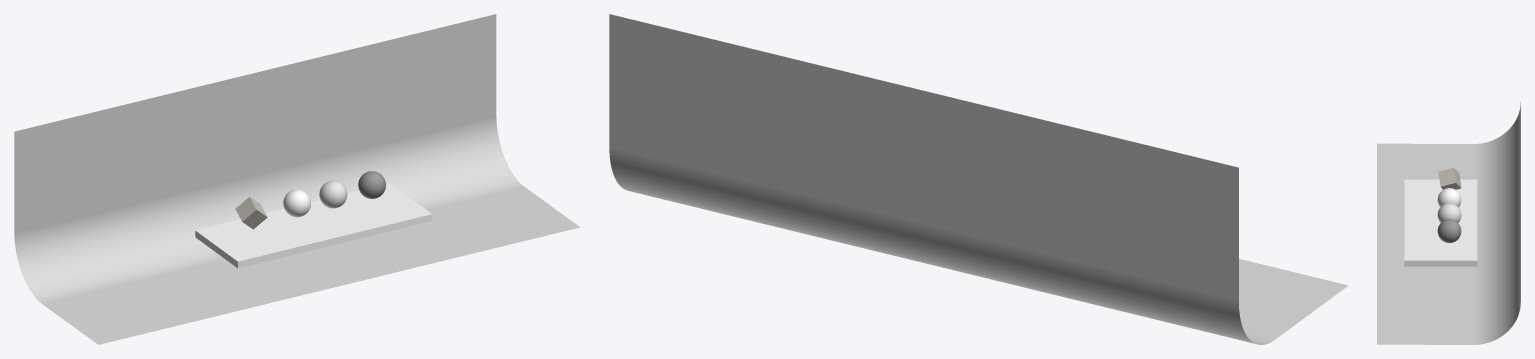
File: cinema.glb
3 renders of one model, left to right at view 1: azimuth 30°, elevation 25°; view 2: azimuth 150°, elevation 25°; view 3: azimuth 270°, elevation 25°, orthographic. The views are drawn at different scales.
Visible parts, largest first — view 1: Sweep, Cube, Cube.1, Sphere.1, Sphere, Sphere.2; view 2: Sweep; view 3: Sweep, Cube, Sphere.2, Cube.1, Sphere.1, Sphere.
Boxes of the visible parts, x1,y1,x2,y2 form: Sweep: (14,14,579,344); Cube: (195,183,432,268); Cube.1: (235,196,267,229); Sphere.1: (319,180,347,208); Sphere: (283,189,310,217); Sphere.2: (358,171,385,198); Sweep: (609,14,1348,344); Sweep: (1377,102,1520,344); Cube: (1404,179,1477,266); Sphere.2: (1437,219,1461,242); Cube.1: (1438,167,1461,189); Sphere.1: (1437,203,1461,222); Sphere: (1437,188,1461,207).
Size of the model in its own units: 2000 by 604 by 604.
6 materials, 1 textured.
